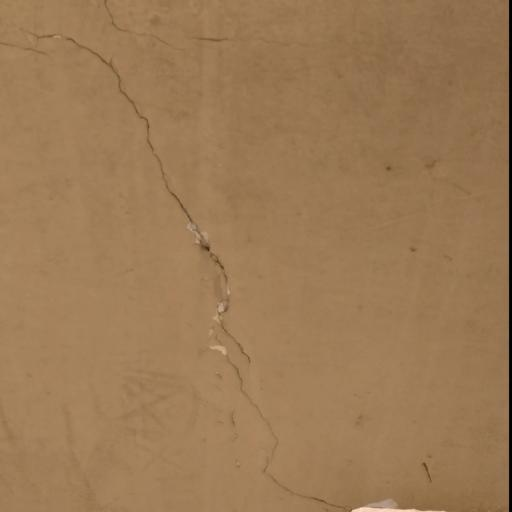minor_crack: (11, 16, 350, 512), (96, 0, 319, 46)
